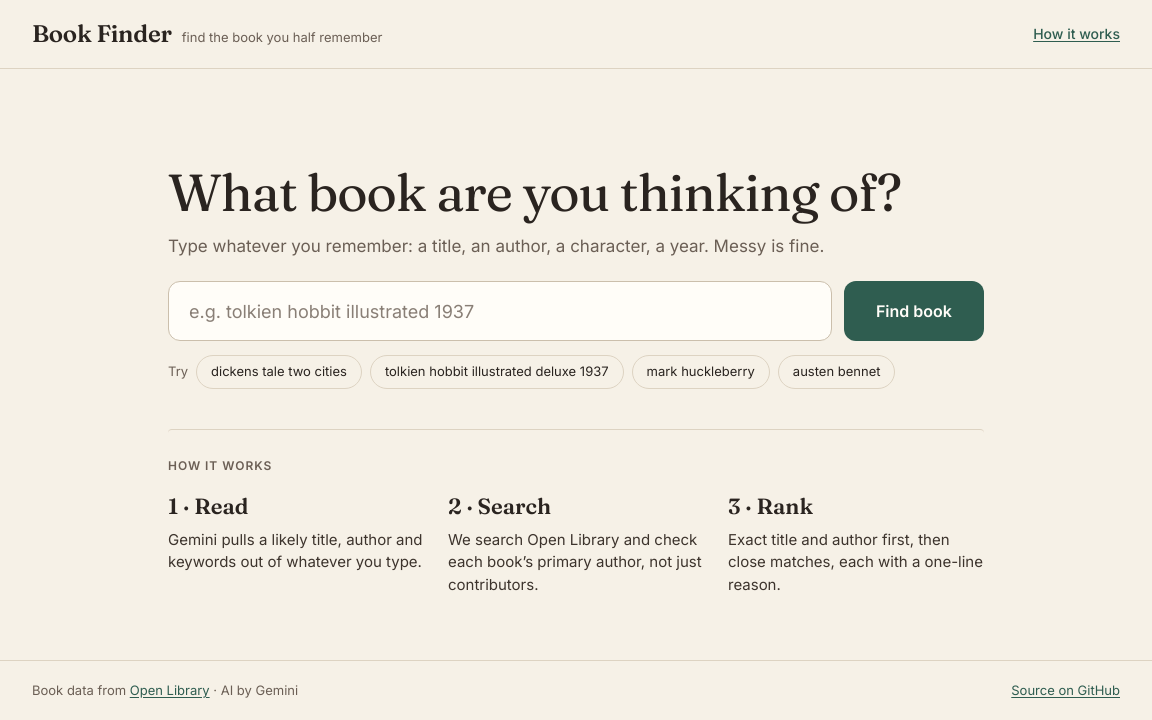
Test: App › shows the Open Library card and retries the same query
Later steps or results of the test are not shown.
Step 1. Type "austen bennet" into the search field labelled "What book are you thinking of?" → {"x": 500, "y": 311}, box [168,281,832,341]
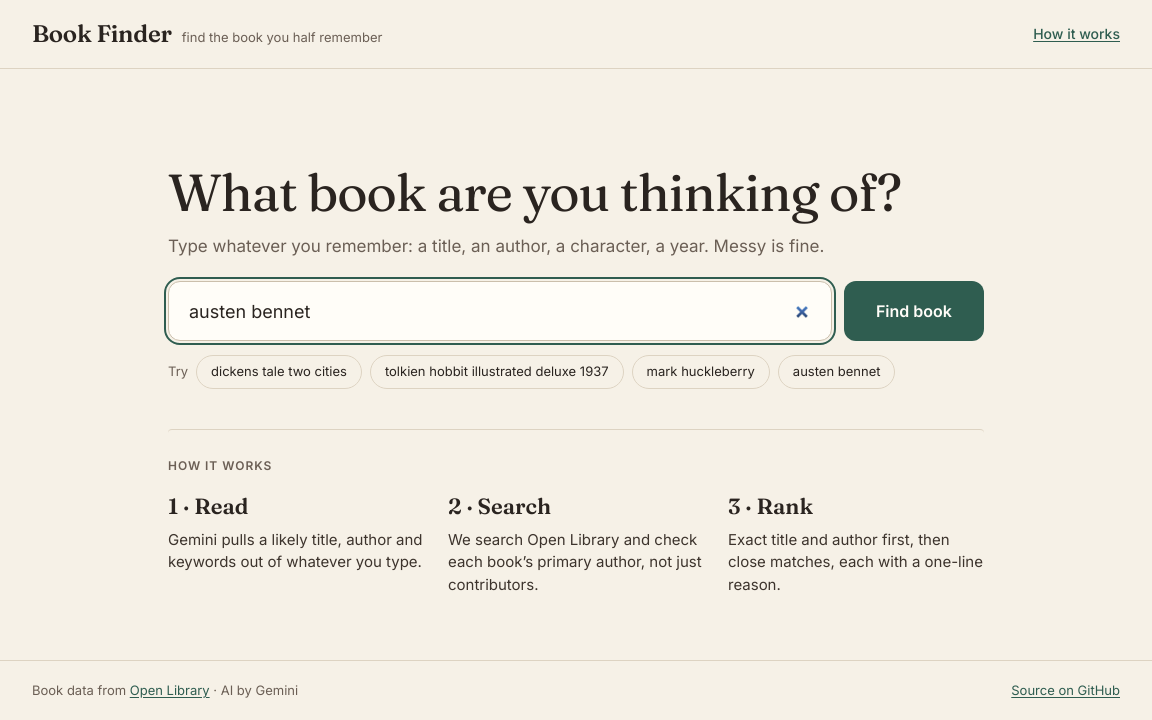
Step 2. Click the button "Find book" → {"x": 914, "y": 311}, box [844,281,984,341]
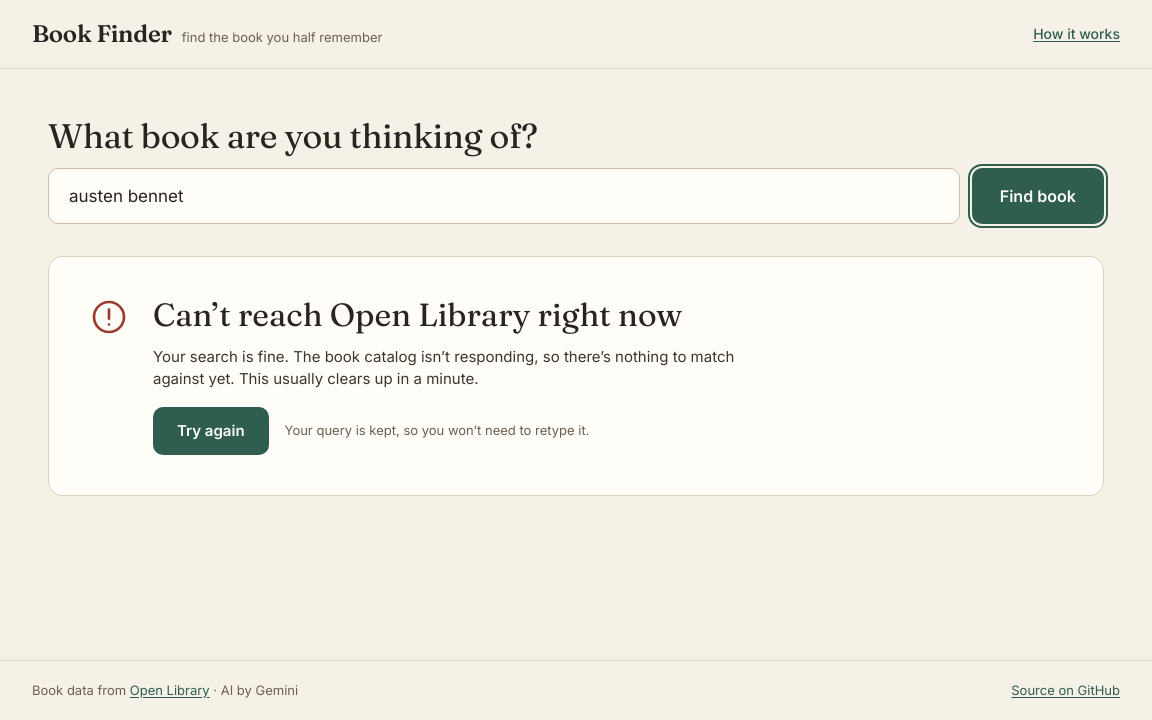
Now the heading "Can’t reach Open Library right now" is shown, box [153,297,753,334]
